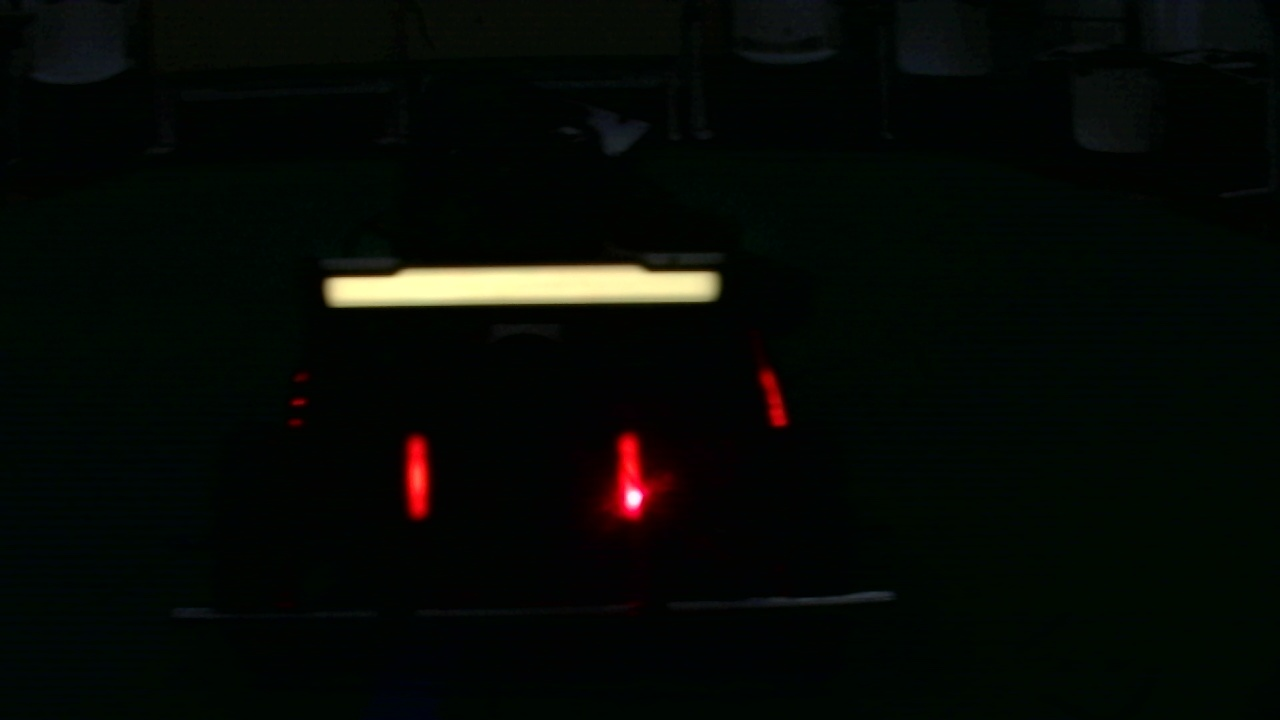lamp: (612, 427, 645, 523), (399, 430, 433, 520)
pair1: (400, 431, 645, 521)
